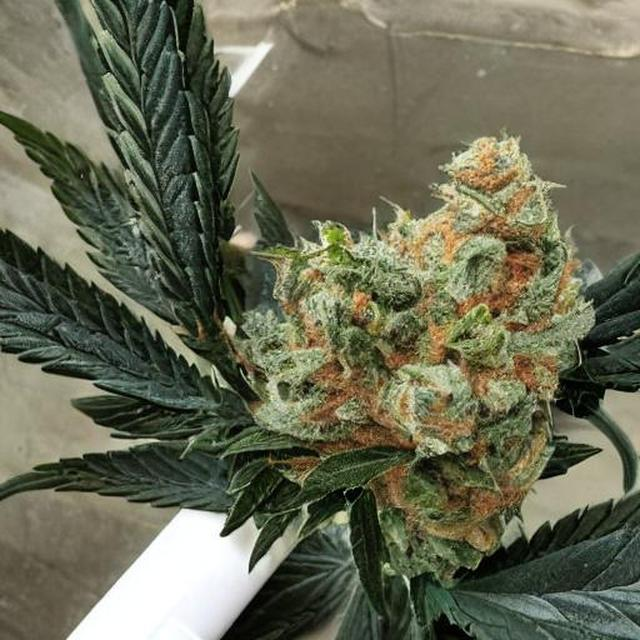Marijuana Joint: (197, 142, 628, 636)
